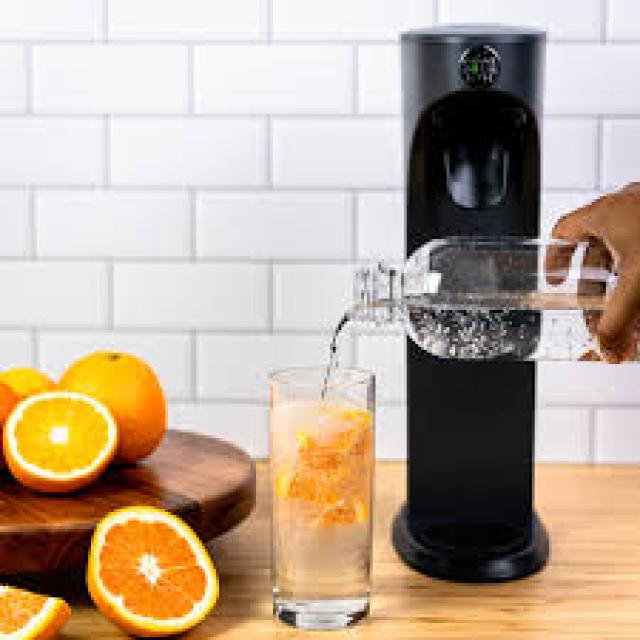Cans: (264, 341, 396, 629)
